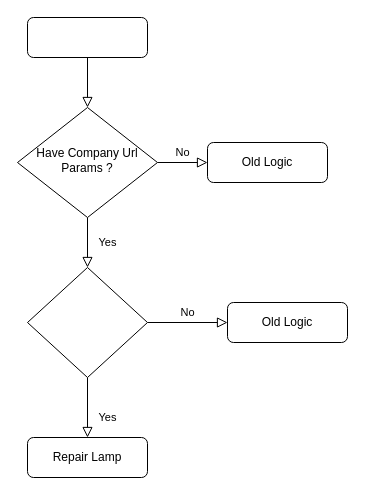
Image size: 365x495. Some labels were removed from this diagram. The shapes that lost their labels are listed below. From the top down, each one's centre as x and y in pixels, then its label:
At (87,37): "Start".
At (87,322): "Find Match Company in My Companies ?".
